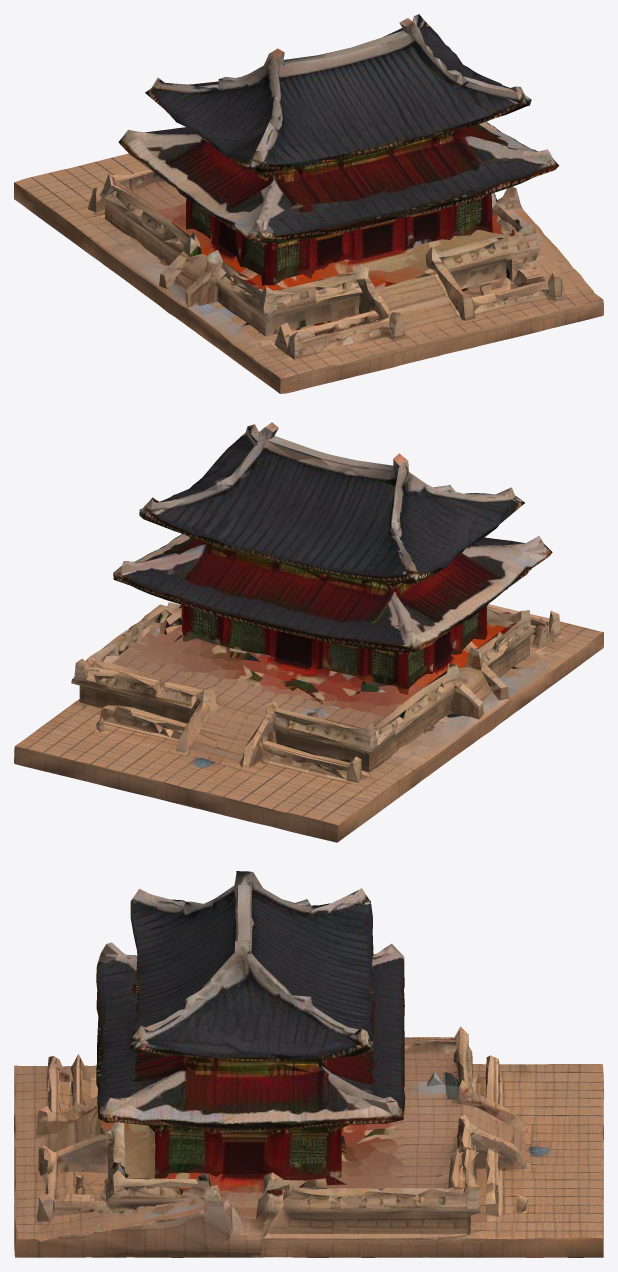
The model's file is gyeongbokgung.glb.
3 renders of one model, top to bottom at view 1: azimuth 30°, elevation 25°; view 2: azimuth 150°, elevation 25°; view 3: azimuth 270°, elevation 25°, orthographic. The views are drawn at different scales.
Parts seen in each view (by area): view 1: logan-textured.obj; view 2: logan-textured.obj; view 3: logan-textured.obj.
Boxes of the visible parts, left/top/right/bottom form: logan-textured.obj: left=14, top=14, right=603, bottom=393; logan-textured.obj: left=14, top=422, right=603, bottom=842; logan-textured.obj: left=14, top=871, right=603, bottom=1257.
Bounding box in the file's own units: 0.7106 × 0.5032 × 1.
Materials: 1 (1 with a texture image).
